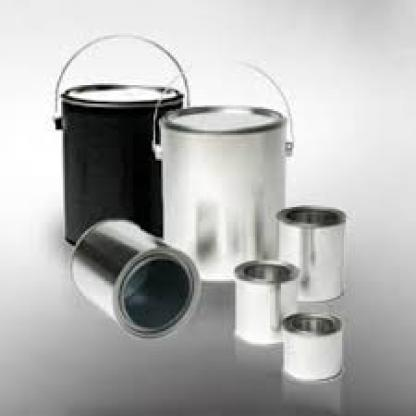METAL: (159, 102, 283, 281), (59, 83, 181, 250), (66, 215, 198, 342), (275, 206, 344, 302), (231, 259, 298, 344), (281, 311, 342, 379)
